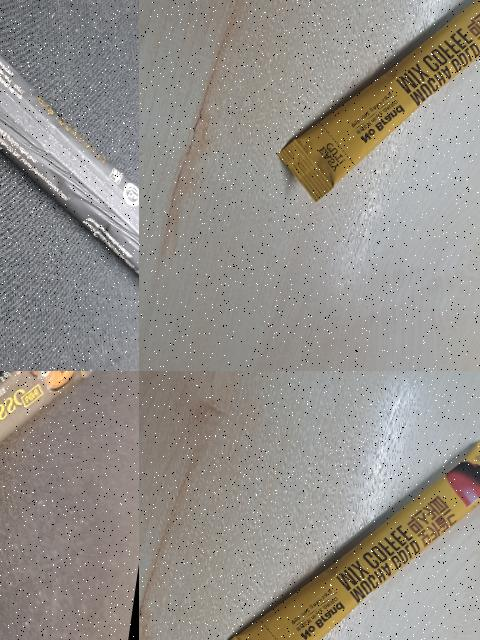espresso_mini: (0, 0, 139, 363), (0, 371, 125, 640)
mix_coffee: (202, 392, 480, 640), (262, 0, 480, 257)
